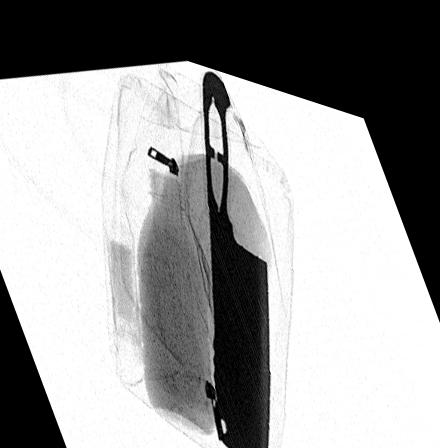Knife: (202, 56, 271, 448)
